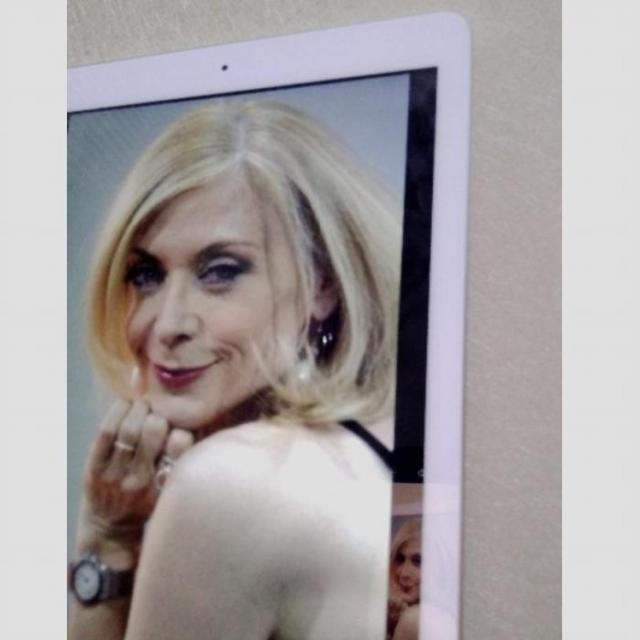device: (68, 3, 475, 640)
